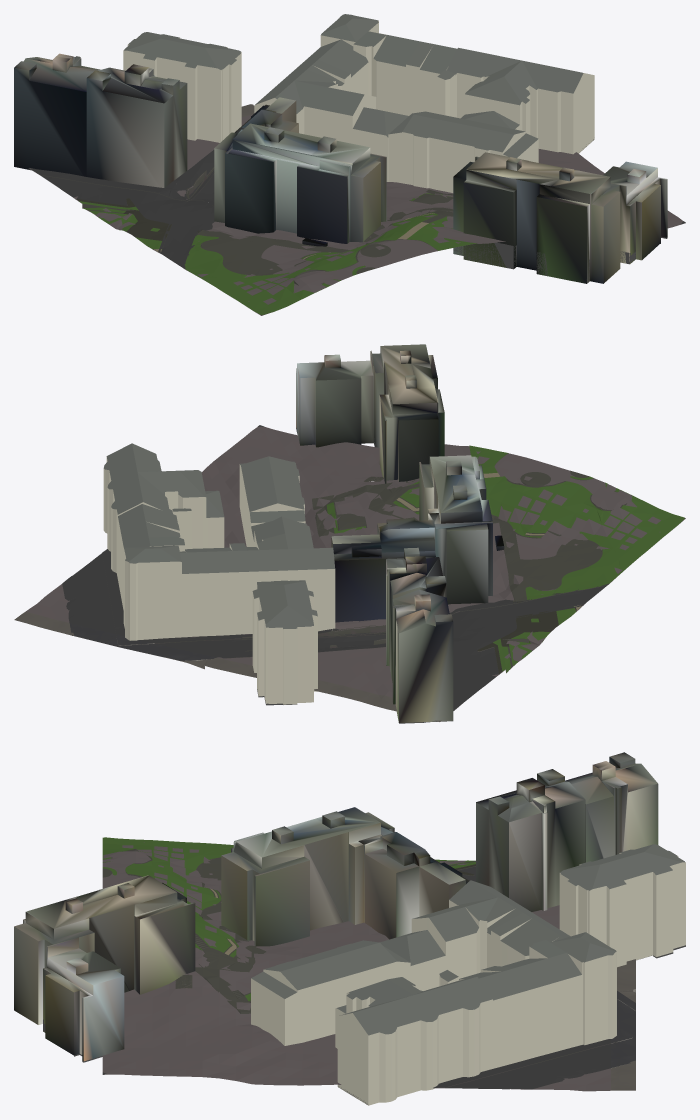
3 renders of one model, top to bottom at view 1: azimuth 30°, elevation 25°; view 2: azimuth 150°, elevation 25°; view 3: azimuth 270°, elevation 25°, orthographic. The views are drawn at different scales.
Visible parts, largest first — view 1: c_m08_p06; view 2: c_m08_p06; view 3: c_m08_p06.
Part boxes in pixels (x1,y1,x2,y2): c_m08_p06: [14, 14, 685, 315]; c_m08_p06: [14, 344, 685, 723]; c_m08_p06: [14, 752, 685, 1105].
Size of the model in its own units: 140 by 33.37 by 161.
